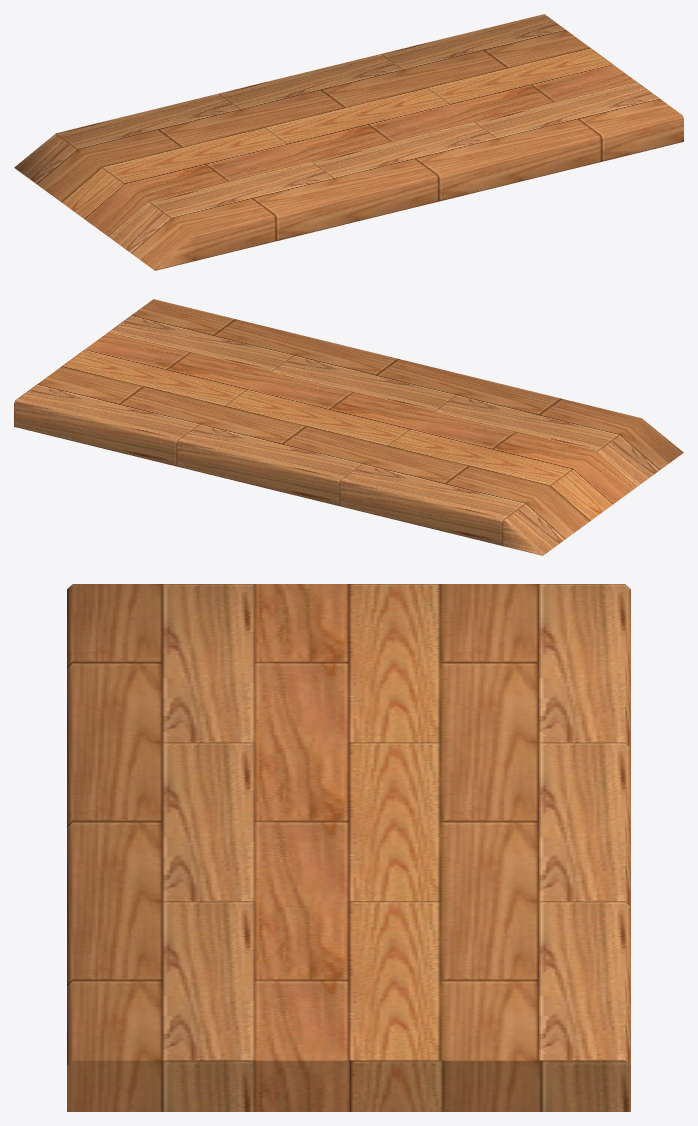
3 renders of one model, top to bottom at view 1: azimuth 30°, elevation 25°; view 2: azimuth 150°, elevation 25°; view 3: azimuth 270°, elevation 25°, orthographic. The views are drawn at different scales.
Visible parts, largest first — view 1: Joint_0_Object_0; view 2: Joint_0_Object_0; view 3: Joint_0_Object_0.
Part boxes in pixels (x1=…): Joint_0_Object_0: x1=14, y1=14, x2=683, y2=270; Joint_0_Object_0: x1=14, y1=299, x2=683, y2=555; Joint_0_Object_0: x1=67, y1=584, x2=630, y2=1111.
Bounding box in the file's own units: 6500 × 300 × 3000.
1 material, 1 textured.
